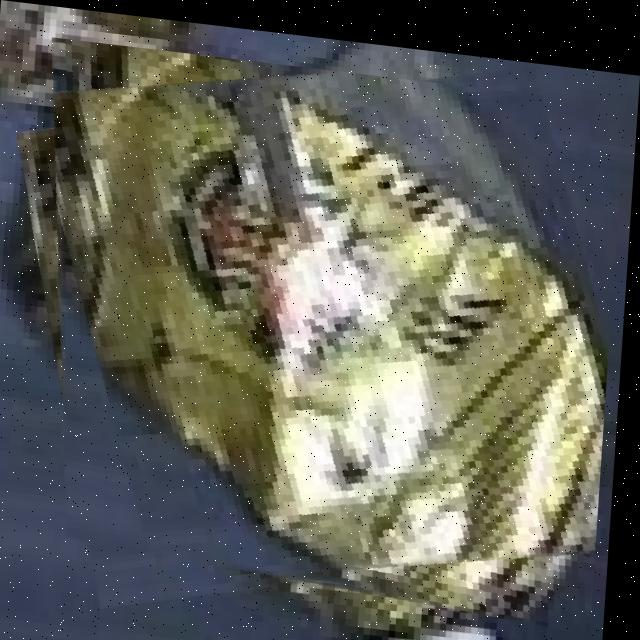can: (19, 36, 624, 622)
